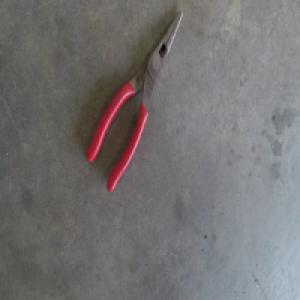Pliers: (79, 12, 178, 194)
